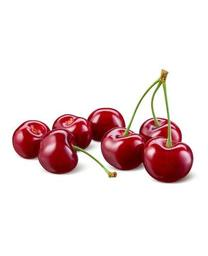cherry: (143, 135, 192, 182), (100, 127, 144, 171), (38, 129, 79, 175), (139, 117, 182, 157), (52, 114, 92, 152), (86, 108, 127, 143), (12, 119, 47, 159)
